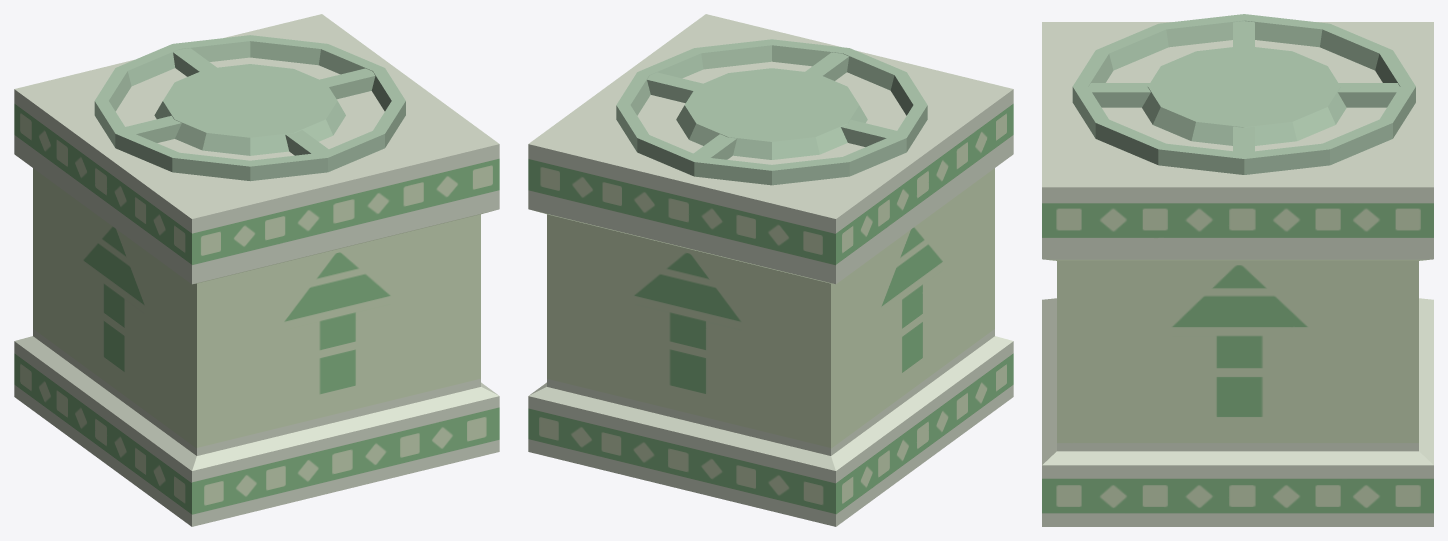
File: move-up.fbx
3 views of the same model, side by side, from view 1: azimuth 30°, elevation 25°; view 2: azimuth 150°, elevation 25°; view 3: azimuth 270°, elevation 25° (orthographic). The views are drawn at different scales.
Parts seen in each view (by area): view 1: polySurface133; view 2: polySurface133; view 3: polySurface133.
Part boxes in pixels (x1,y1,x2,y2): polySurface133: (14,14,499,526); polySurface133: (528,14,1013,526); polySurface133: (1042,14,1433,526).
Bounding box in the file's own units: 2 × 2 × 2.
